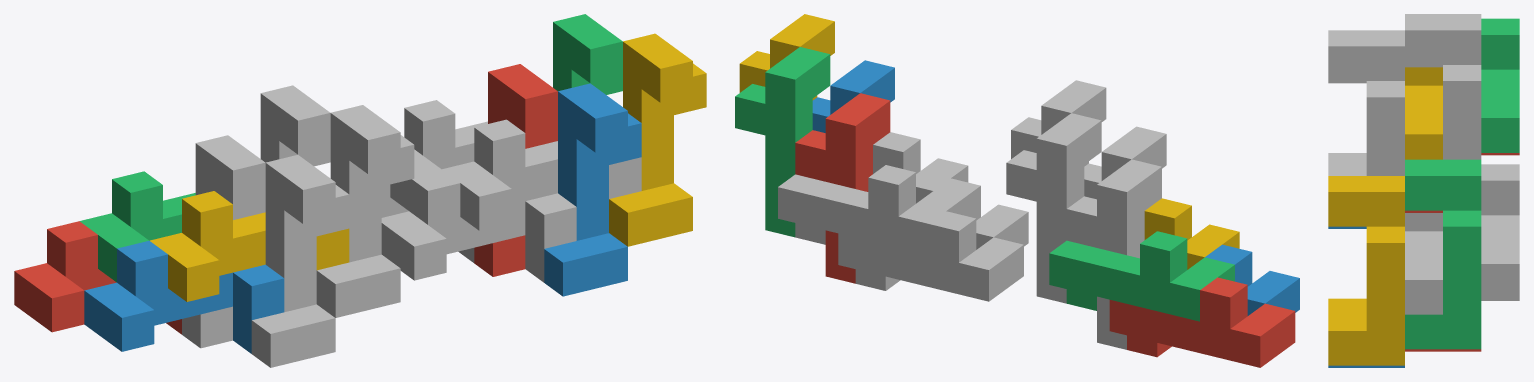
Rendered from tiling.obj.
3 views of the same model, side by side, from view 1: azimuth 30°, elevation 25°; view 2: azimuth 150°, elevation 25°; view 3: azimuth 270°, elevation 25° (orthographic). The views are drawn at different scales.
Visible parts, largest first — view 1: copy_2_domain_2, copy_2_domain_6, copy_2_domain_4, copy_2_domain_8, copy_1_domain_2, copy_1_domain_6, copy_1_domain_4, copy_1_domain_8, copy_1_domain_1, copy_2_domain_1, copy_2_domain_5, copy_1_domain_3 (+4 smaller); view 2: copy_1_domain_7, copy_1_domain_3, copy_1_domain_5, copy_1_domain_1, copy_2_domain_3, copy_2_domain_7, copy_2_domain_5, copy_2_domain_1, copy_2_domain_4, copy_2_domain_8, copy_1_domain_8, copy_1_domain_4 (+4 smaller); view 3: copy_2_domain_8, copy_2_domain_7, copy_2_domain_4, copy_2_domain_3, copy_1_domain_3, copy_1_domain_7, copy_1_domain_8, copy_1_domain_4, copy_2_domain_6, copy_2_domain_5.
Part boxes in pixels (x1,y1,x2,y2): copy_2_domain_2: (251, 155, 349, 367); copy_2_domain_6: (544, 83, 641, 296); copy_2_domain_4: (316, 105, 414, 317); copy_2_domain_8: (609, 33, 706, 246); copy_1_domain_2: (84, 240, 284, 353); copy_1_domain_6: (381, 169, 576, 282); copy_1_domain_4: (150, 191, 349, 301); copy_1_domain_8: (442, 119, 641, 230); copy_1_domain_1: (14, 221, 181, 334); copy_2_domain_1: (182, 135, 265, 348); copy_2_domain_5: (474, 64, 557, 276); copy_1_domain_3: (79, 171, 195, 282); copy_1_domain_7: (778, 165, 963, 255); copy_1_domain_3: (1049, 231, 1234, 321); copy_1_domain_5: (838, 211, 1023, 301); copy_1_domain_1: (1109, 277, 1295, 367); copy_2_domain_3: (1006, 113, 1101, 303); copy_2_domain_7: (735, 47, 830, 237); copy_2_domain_5: (795, 93, 890, 283); copy_2_domain_1: (1066, 159, 1161, 349); copy_2_domain_4: (1011, 80, 1106, 166); copy_2_domain_8: (739, 14, 834, 100); copy_1_domain_8: (873, 132, 968, 203); copy_1_domain_4: (1144, 198, 1239, 269); copy_2_domain_8: (1328, 176, 1404, 365); copy_2_domain_7: (1405, 159, 1481, 349); copy_2_domain_4: (1328, 30, 1404, 175); copy_2_domain_3: (1405, 14, 1481, 159); copy_1_domain_3: (1481, 18, 1519, 152); copy_1_domain_7: (1481, 164, 1519, 298); copy_1_domain_8: (1405, 213, 1442, 314); copy_1_domain_4: (1405, 67, 1442, 159); copy_2_domain_6: (1328, 226, 1404, 367); copy_2_domain_5: (1405, 210, 1481, 351).
Size of the model in its own units: 19 by 6 by 5.
